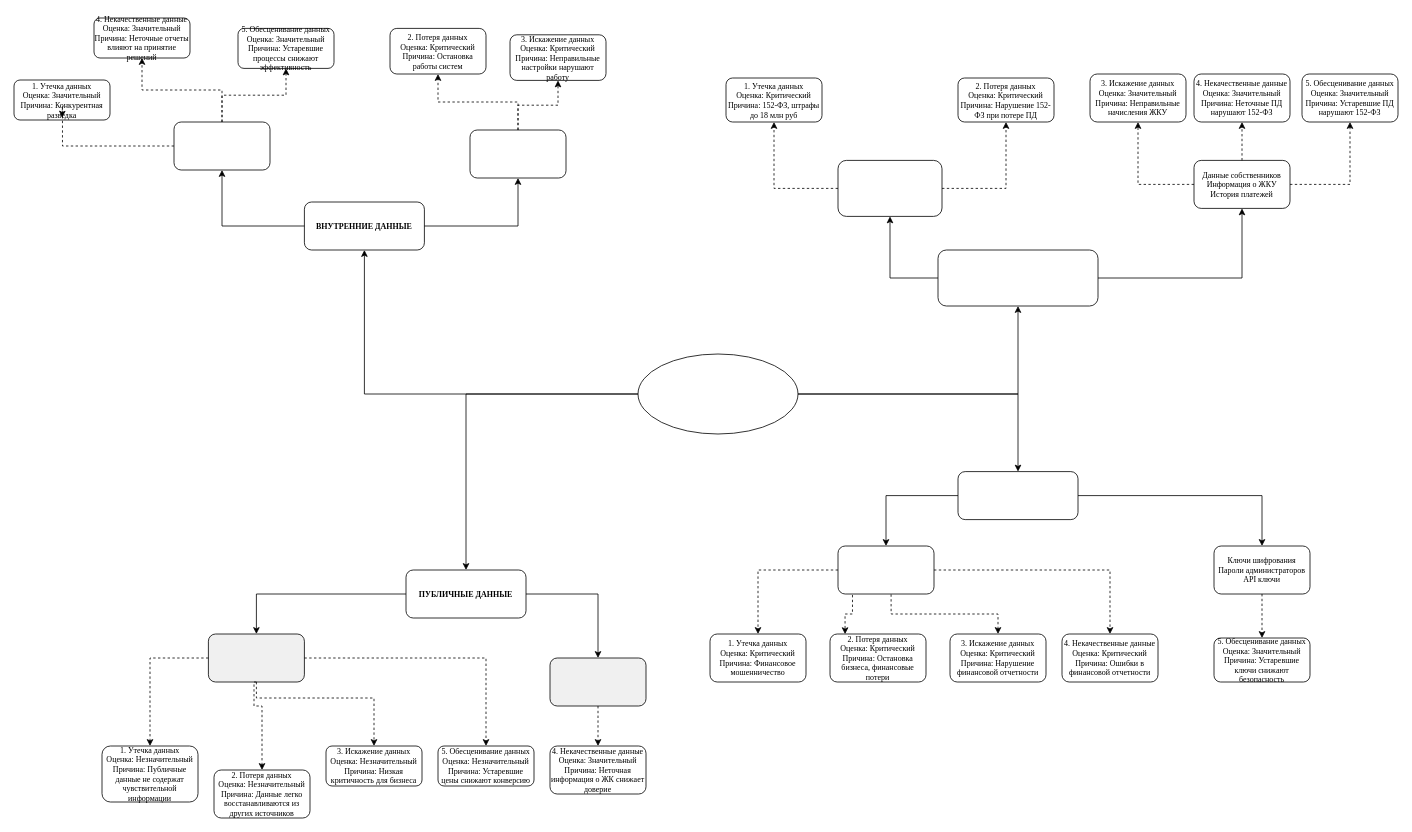
This 1412x832 diagram has some shape labels left out. The shapes that lost their labels are listed below. From the top down, each one's centre as x and y in pixels, then its label:
point 221,145: Бизнес-процессы Внутренние отчеты Аналитика продаж
point 517,153: Конфигурации систем Логи приложений
point 889,188: Персональные данные клиентов Контактная информация Данные бронирования
point 1017,277: КОНФИДЕНЦИАЛЬНЫЕ ДАННЫЕ
point 717,393: Безопасность данных PropDevelopment
point 1017,495: СЕКРЕТНЫЕ ДАННЫЕ
point 885,569: Финансовые данные Данные сделок Банковская информация
point 256,657: Каталог недвижимости Общие характеристики Цены на витрине
point 597,681: Информация о ЖК Услуги управляющих компаний
